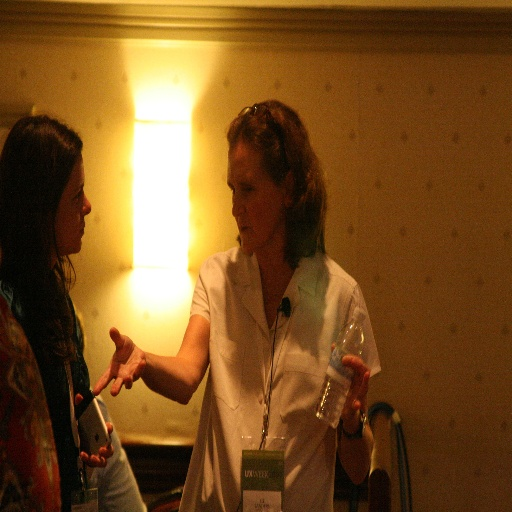hand: (331, 341, 371, 422), (73, 391, 114, 470), (98, 337, 147, 401)
